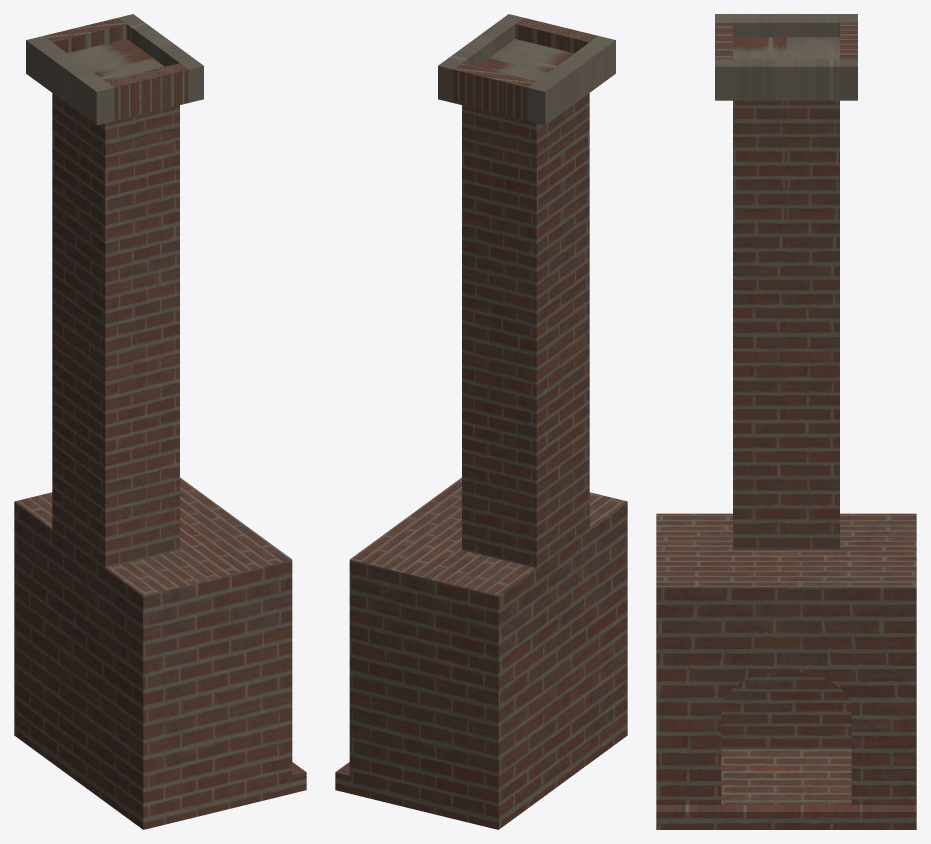
Rendered from Fireplace.fbx.
3 renders of one model, left to right at view 1: azimuth 30°, elevation 25°; view 2: azimuth 150°, elevation 25°; view 3: azimuth 270°, elevation 25°, orthographic.
Visible parts, largest first — view 1: Cube; view 2: Cube; view 3: Cube.
Boxes of the visible parts, x1=… form: Cube: x1=14, y1=14, x2=306, y2=829; Cube: x1=335, y1=14, x2=627, y2=829; Cube: x1=656, y1=14, x2=916, y2=829.
Bounding box in the file's own units: 485 × 1849 × 600.
